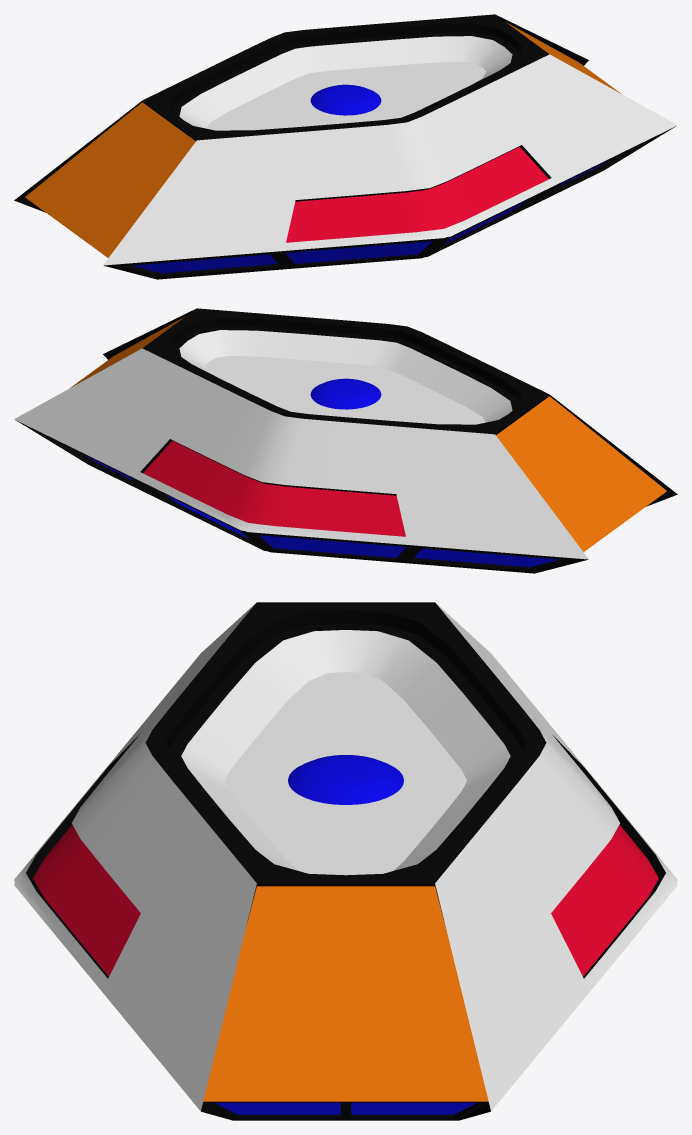
File: MainConsole.fbx
The picture shows the model from 3 angles, top to bottom: view 1: azimuth 30°, elevation 25°; view 2: azimuth 150°, elevation 25°; view 3: azimuth 270°, elevation 25°; orthographic projection. The views are drawn at different scales.
Visible parts, largest first — view 1: MainConsole; view 2: MainConsole; view 3: MainConsole.
Boxes of the visible parts, x1,y1,x2,y2 form: MainConsole: (14, 14, 677, 279); MainConsole: (14, 308, 677, 573); MainConsole: (14, 602, 677, 1120).
Bounding box in the file's own units: 400 × 81.45 × 245.
